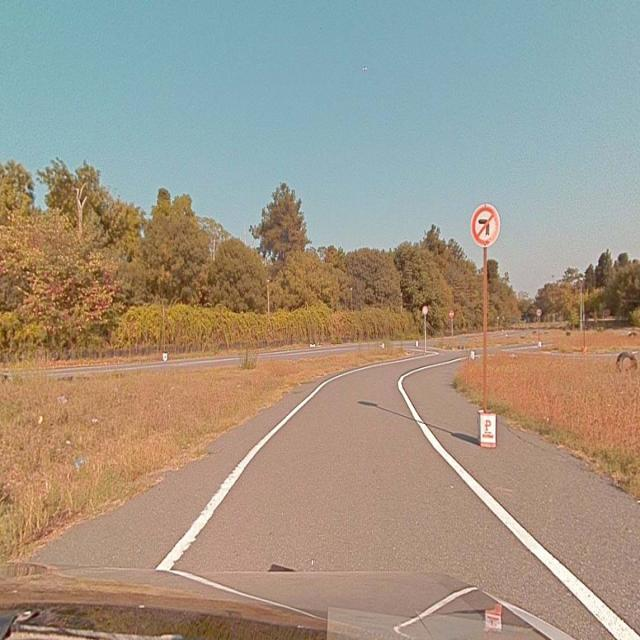soladonulmez: (471, 205, 499, 247)
